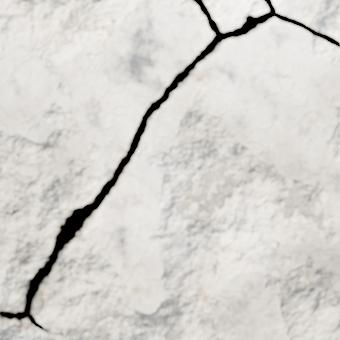brick: (0, 19, 339, 339), (0, 0, 212, 310), (273, 0, 339, 38), (204, 0, 267, 30)
crack: (0, 0, 339, 338)
